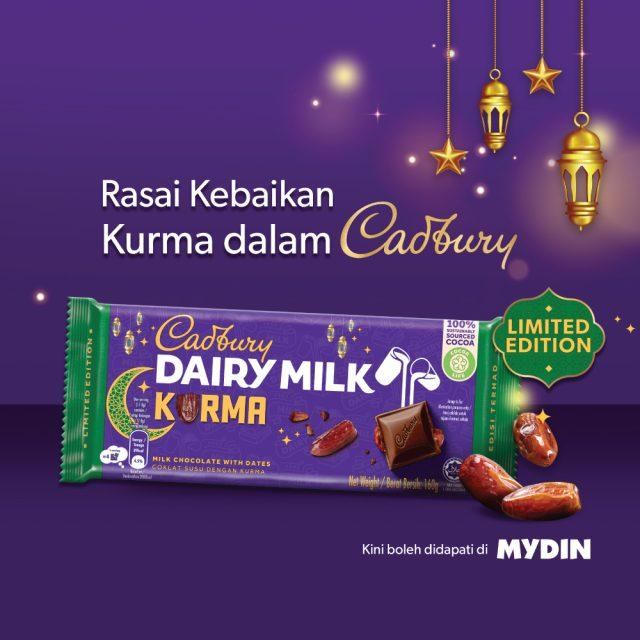cadbury: (58, 295, 524, 497)
